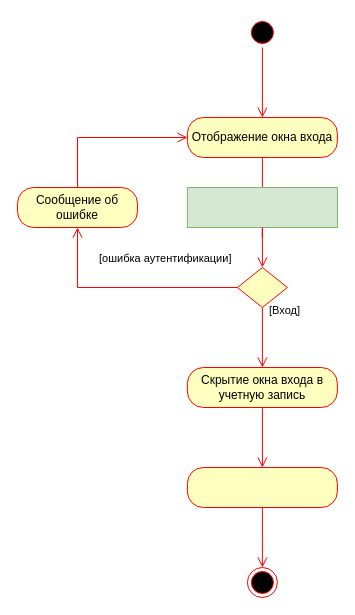
Some shapes in this 355 by 615 pixel diagram are drawn without their labels. Here are the shapes that lost their labels. From the top down, the box of each, then its label:
(186, 186, 337, 228): Нажатие кнопки входа
(186, 466, 337, 508): Отображение приветствующего она
